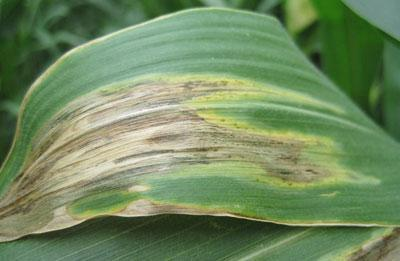Corn_Blight: (0, 67, 363, 248), (368, 232, 400, 261)
